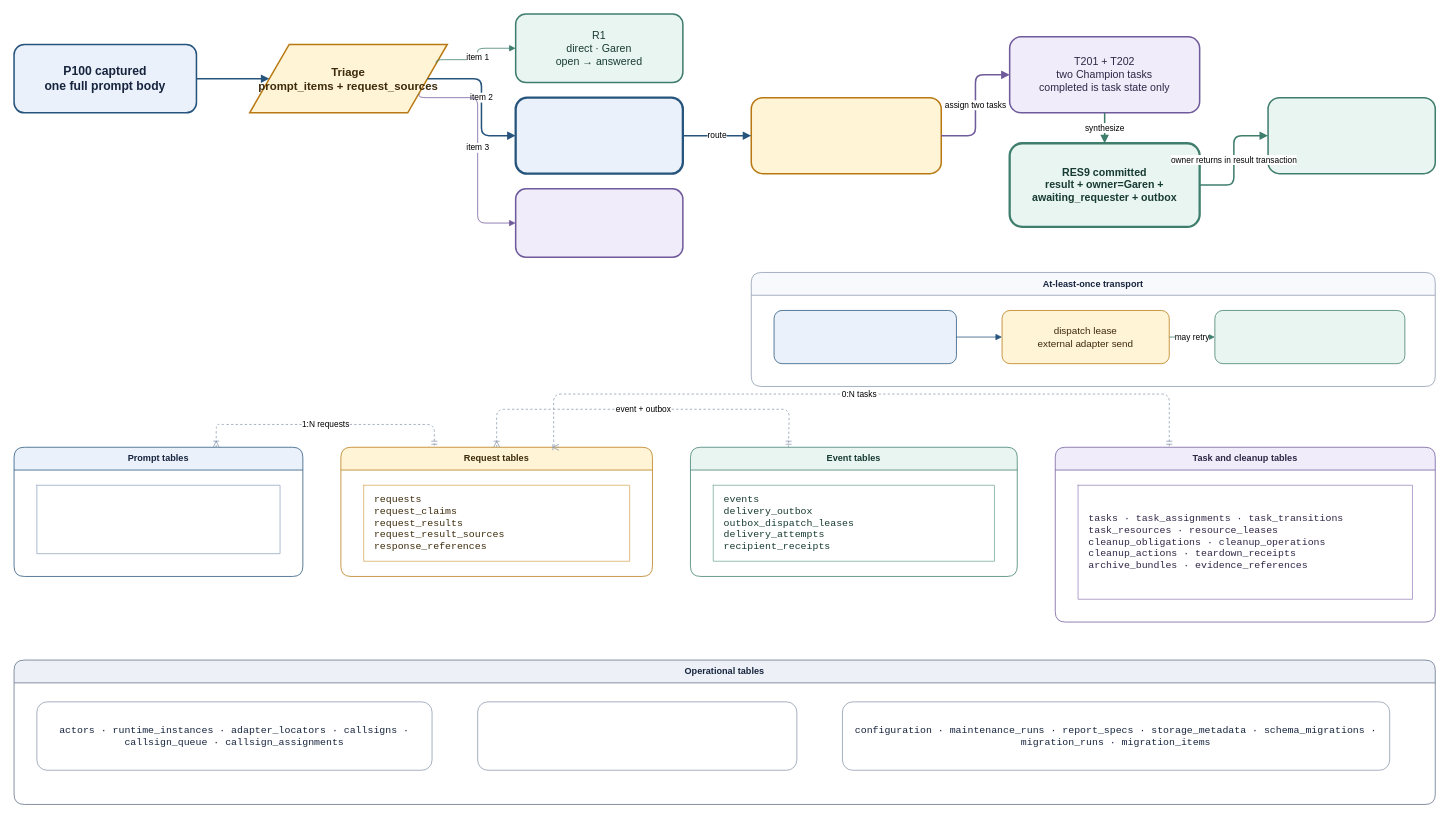
Some shapes in this 1449 by 818 pixel diagram are drawn without their labels. The centre of each missing label's shape, as x and y in pixels:
events + delivery_outbox commit with domain change: pixel 864 337
Garen answers response reference + summary R2 = answered: pixel 1351 135
Jarvan accepts R2 request claim is exclusive execution mode = champion: pixel 846 135
obligations · watcher_registrations · watcher_observations: pixel 637 735
prompts prompt_payloads prompt_items request_sources: pixel 158 519
R2 Garen → Jarvan → Garen routed request: pixel 599 135
R3 Champion · Garen owns task result ≠ answer: pixel 599 223
recipient_receipts unique event + recipient exactly-once DB effect: pixel 1309 337
